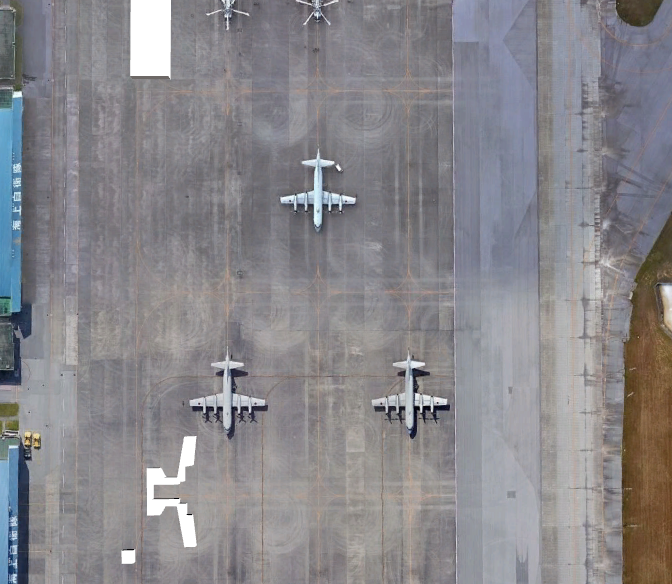A9: (276, 137, 362, 236), (188, 338, 274, 437), (368, 338, 454, 437)
